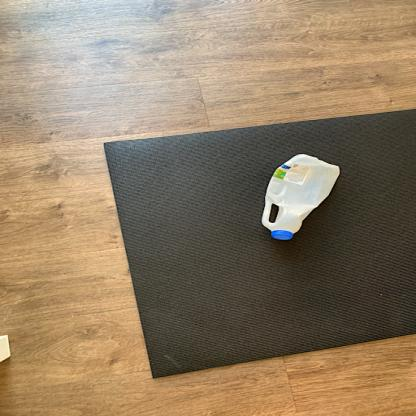trash: (259, 154, 342, 243)
